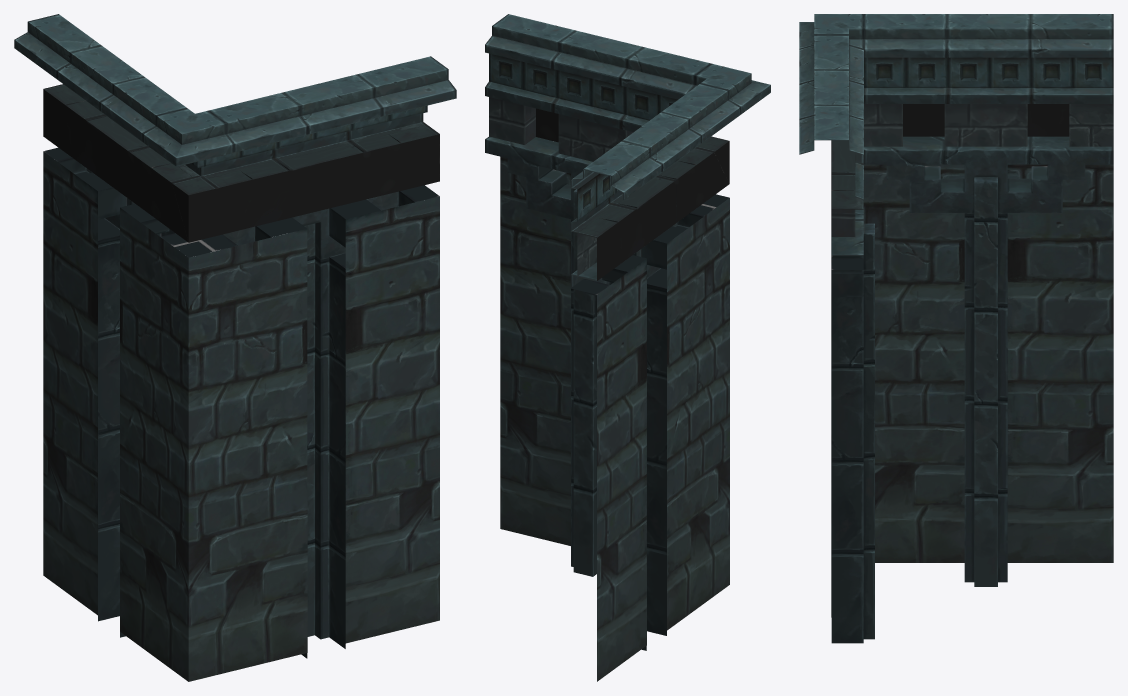
File: Stage_DiXiaCheng_DiMianBaoBian09.FBX
The picture shows the model from 3 angles, left to right: view 1: azimuth 30°, elevation 25°; view 2: azimuth 150°, elevation 25°; view 3: azimuth 270°, elevation 25°; orthographic projection. The views are drawn at different scales.
Parts seen in each view (by area): view 1: Stage_DiXiaCheng_DiMianBaoBian09; view 2: Stage_DiXiaCheng_DiMianBaoBian09; view 3: Stage_DiXiaCheng_DiMianBaoBian09.
Boxes of the visible parts, left/top/right/bottom form: Stage_DiXiaCheng_DiMianBaoBian09: left=14, top=14, right=456, bottom=681; Stage_DiXiaCheng_DiMianBaoBian09: left=485, top=14, right=770, bottom=681; Stage_DiXiaCheng_DiMianBaoBian09: left=799, top=14, right=1113, bottom=643.
Bounding box in the file's own units: 758 × 1458 × 759.
